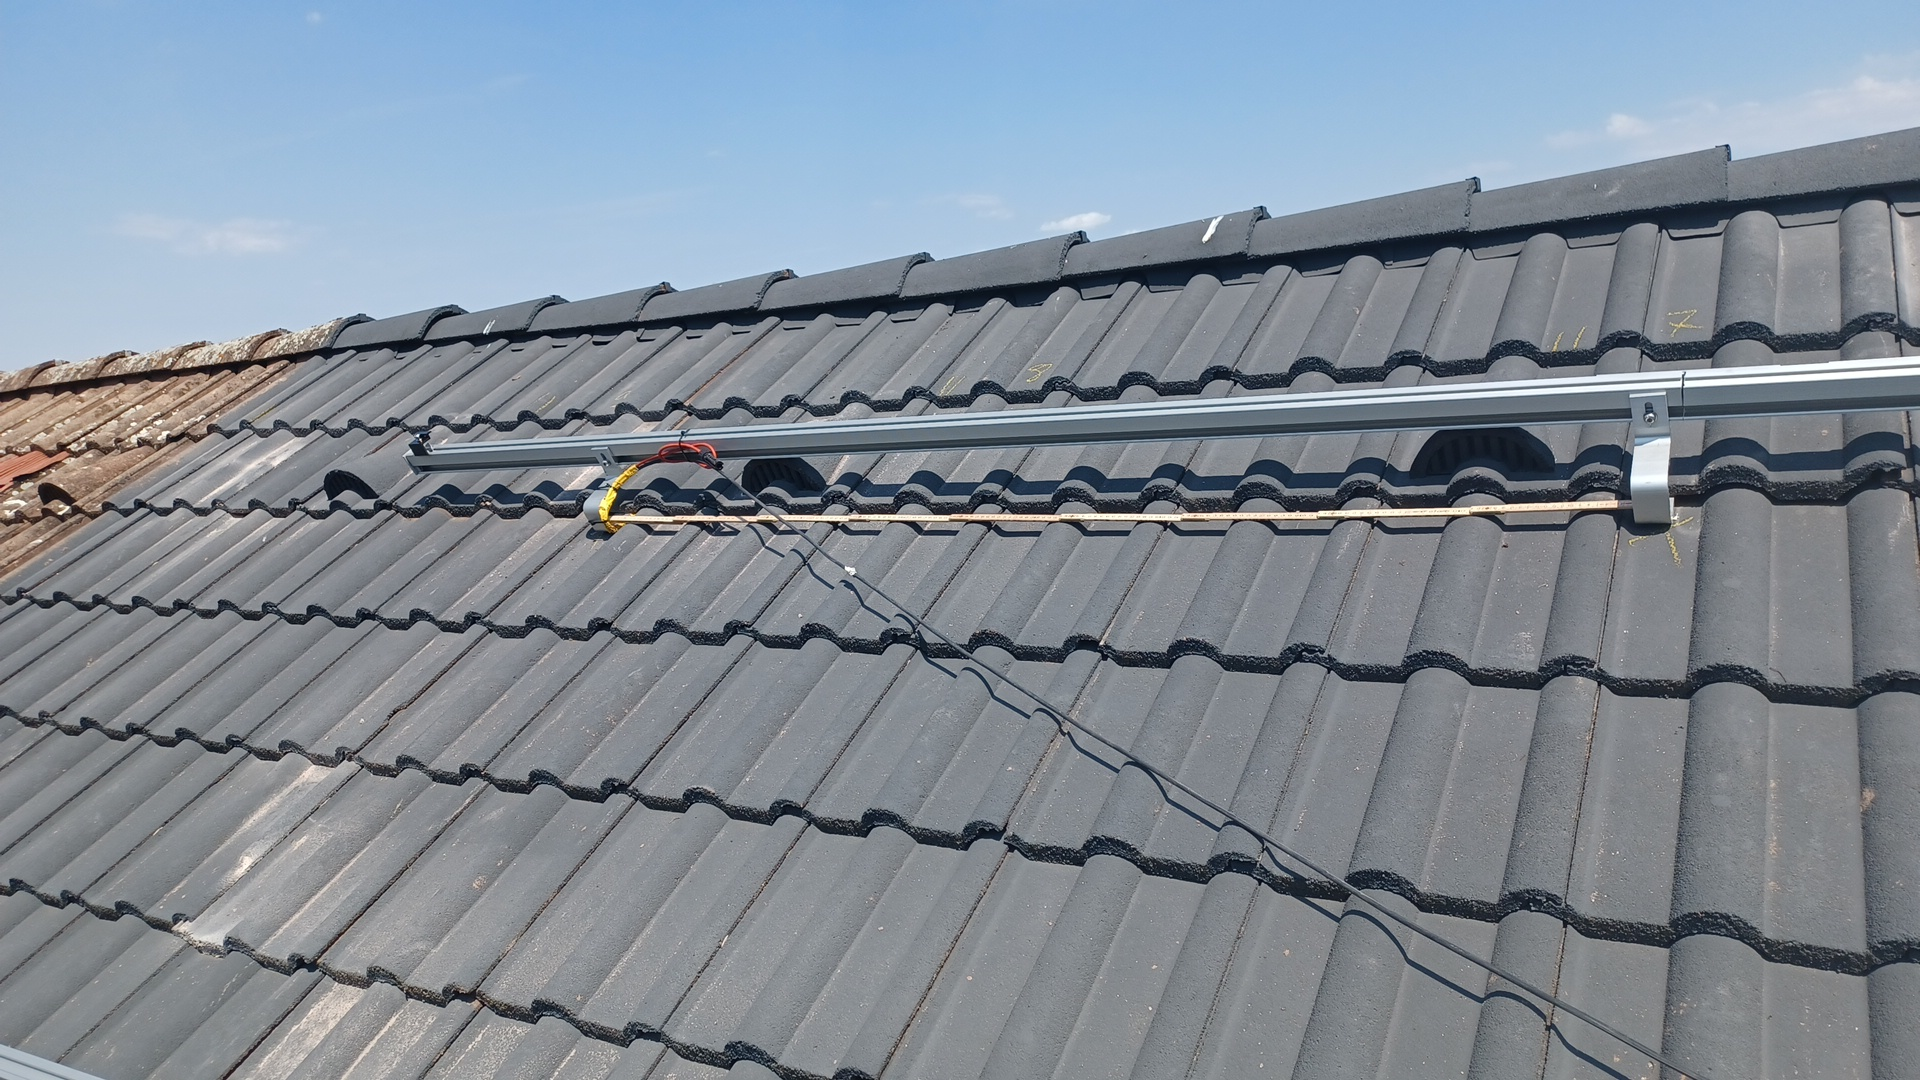hook: (1629, 392, 1673, 524), (582, 447, 625, 533)
